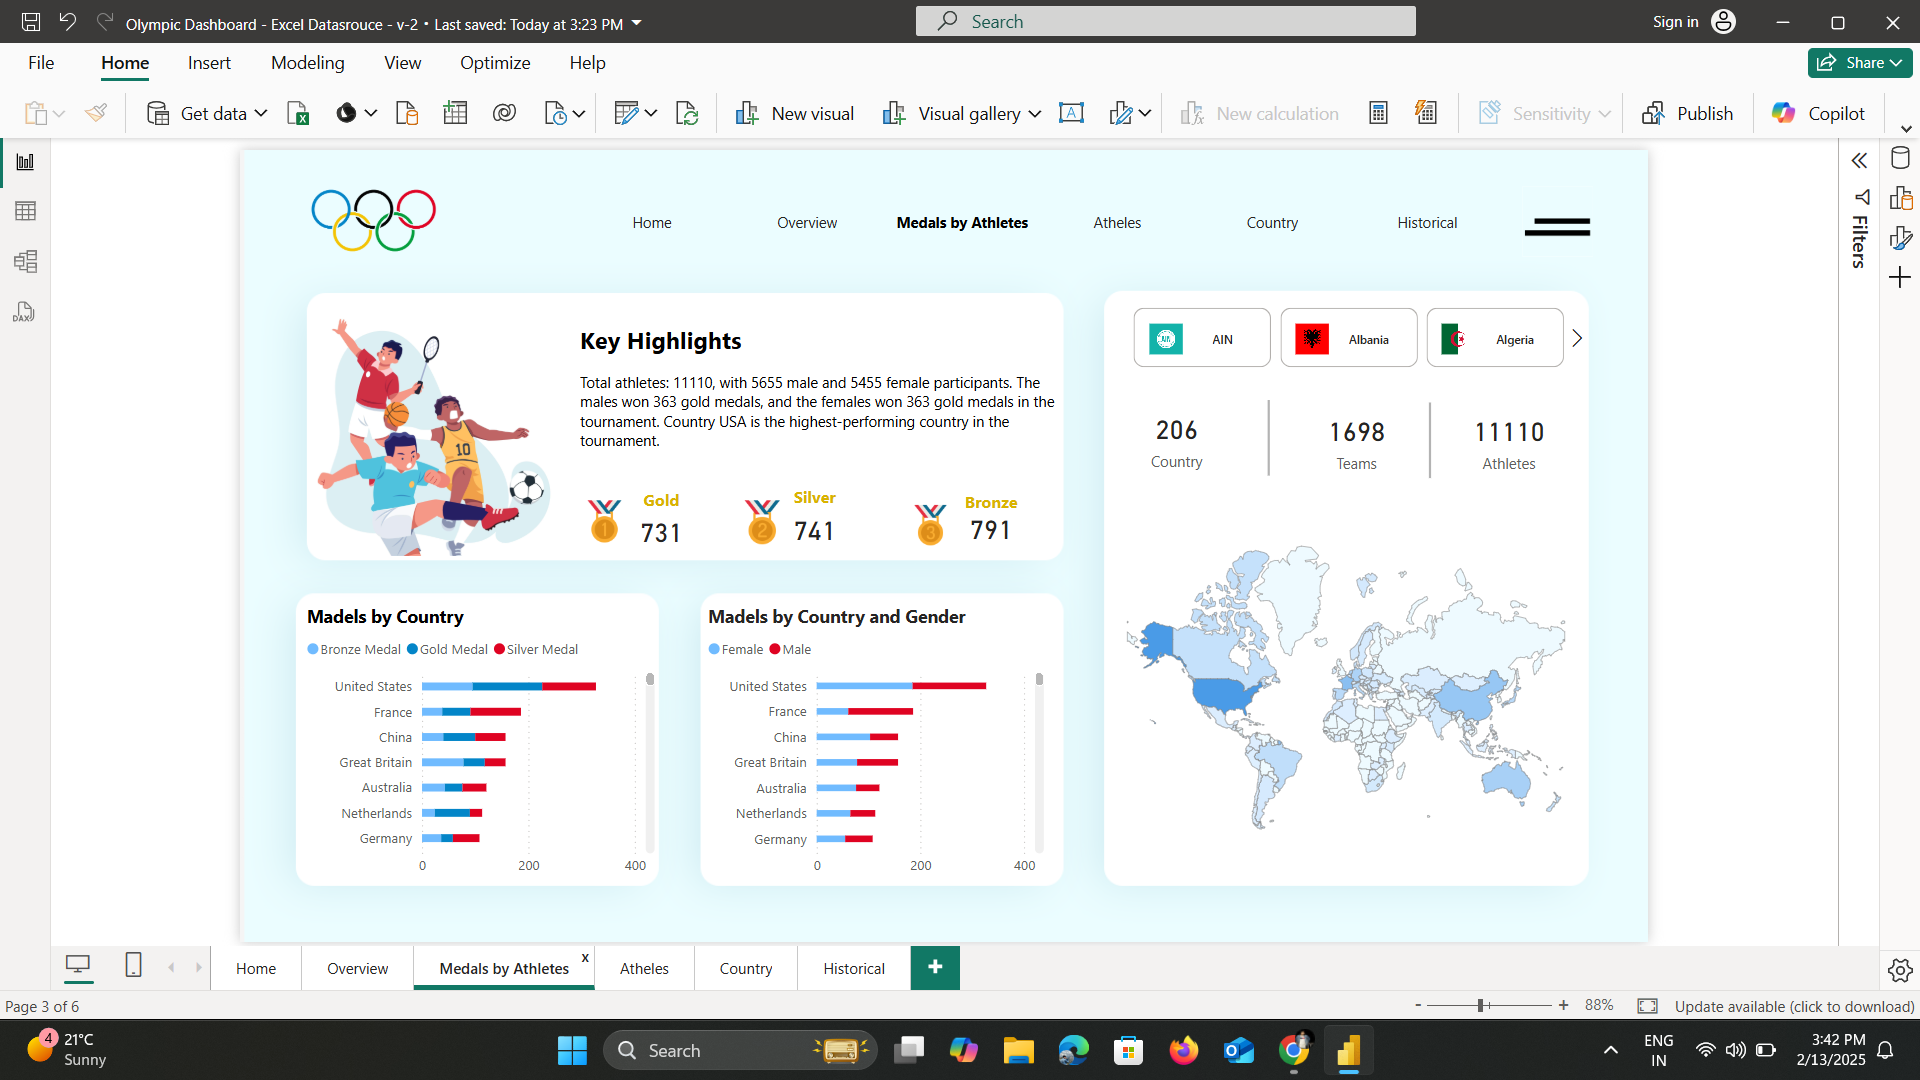

The page's visual inventory and layout, read from the dashboard file:
{"tool":"powerbi","page":{"name":"Medals by Athletes","canvas":[1280,720],"ordinal":2},"visuals":[{"type":"actionButton","box":[1166.2,33,64.3,64.3],"z":0},{"type":"card","title":"Gold","fields":{"Values":["Olympic_Measures.Total_Gold_Madels"]},"box":[323.3,307.7,118.7,59.3],"z":2000},{"type":"card","title":"Silver","fields":{"Values":["Olympic_Measures.Total_Silver_Madels"]},"box":[462.3,304.6,120.3,60.9],"z":3000},{"type":"card","title":"Bronze","fields":{"Values":["Olympic_Measures.Total_Bronze Medals"]},"box":[632.5,309.2,100,50],"z":4000},{"type":"advancedSlicerVisual","fields":{"Values":["Medallists.country"]},"box":[787.2,139,443.6,64],"z":5000},{"type":"shapeMap","fields":{"Category":["Medallists.country"],"Value":["Olympic_Measures.Total_Madels"]},"box":[787.2,313.9,442,354.5],"z":6000},{"type":"barChart","title":"Madels by Country and Gender","fields":{"Y":["Olympic_Measures.Total_Madels"],"Category":["Medallists.country"],"Series":["Medallists.gender"]},"box":[420.1,412.3,315.5,256.1],"z":7000},{"type":"barChart","title":"Madels by Country","fields":{"Y":["Olympic_Measures.Total_Madels"],"Category":["Medallists.country"],"Series":["Medallists.medal_type"]},"box":[56.2,412.3,326.4,256.1],"z":8000},{"type":"card","fields":{"Values":["Olympic_Measures.Country_Playing"]},"box":[793.3,218.9,117.1,85.9],"z":9000},{"type":"card","fields":{"Values":["Olympic_Measures.Playing_Teams"]},"box":[957.3,228.3,117.1,71.8],"z":10000},{"type":"card","fields":{"Values":["Olympic_Measures.Total_Athletes"]},"box":[1090.1,225.2,128.1,78.1],"z":11000},{"type":"shape","box":[309.2,151.5,415.4,42.2],"z":12000},{"type":"shape","box":[910.4,226.7,50,68.7],"z":13000},{"type":"shape","box":[1057.3,229.8,50,68.7],"z":14000},{"type":"image","box":[303,313.9,56.2,48.4],"z":15000},{"type":"image","box":[449.8,313.9,50,50],"z":16000},{"type":"image","box":[604.4,317,46.9,48.4],"z":17000},{"type":"image","box":[62.5,139,232.7,237.4],"z":18000},{"type":"shape","box":[309.2,195.2,445.1,82.8],"z":19000},{"type":"image","box":[56.2,0,132.8,126.5],"z":20000},{"type":"pageNavigator","box":[309.2,45.3,840.3,40.6],"z":21000}]}

Visuals, with their boxes on the page's 1280x720 design canvas (x1, y1, x2, y2). These are canvas units, not pixel positions in the 1920x1080 screenshot, which may show the page scaled, cropped or inside an application window:
actionButton: Rect(1166, 33, 1230, 97)
"Gold" card: Rect(323, 308, 442, 367)
"Silver" card: Rect(462, 305, 583, 366)
"Bronze" card: Rect(632, 309, 732, 359)
advancedSlicerVisual - Medallists.country: Rect(787, 139, 1231, 203)
shapeMap - Medallists.country x Olympic_Measures.Total_Madels: Rect(787, 314, 1229, 668)
"Madels by Country and Gender" barChart: Rect(420, 412, 736, 668)
"Madels by Country" barChart: Rect(56, 412, 383, 668)
card - Olympic_Measures.Country_Playing: Rect(793, 219, 910, 305)
card - Olympic_Measures.Playing_Teams: Rect(957, 228, 1074, 300)
card - Olympic_Measures.Total_Athletes: Rect(1090, 225, 1218, 303)
shape: Rect(309, 152, 725, 194)
shape: Rect(910, 227, 960, 295)
shape: Rect(1057, 230, 1107, 298)
image: Rect(303, 314, 359, 362)
image: Rect(450, 314, 500, 364)
image: Rect(604, 317, 651, 365)
image: Rect(62, 139, 295, 376)
shape: Rect(309, 195, 754, 278)
image: Rect(56, 0, 189, 126)
pageNavigator: Rect(309, 45, 1150, 86)
